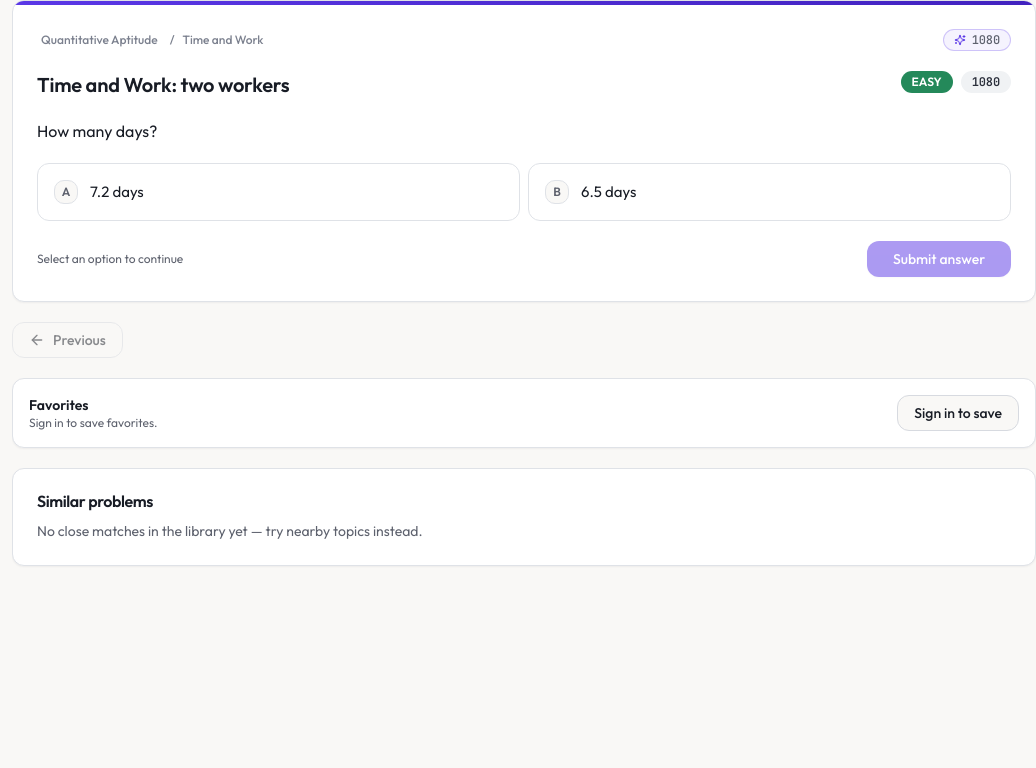
Test: PracticeView › reveals an incorrect result with the correct answer highlighted
What coordinates should you click on to do the following:
click the text "6.5 days"
I would click on:
 (609, 192)
Its box is [581,182,636,201].
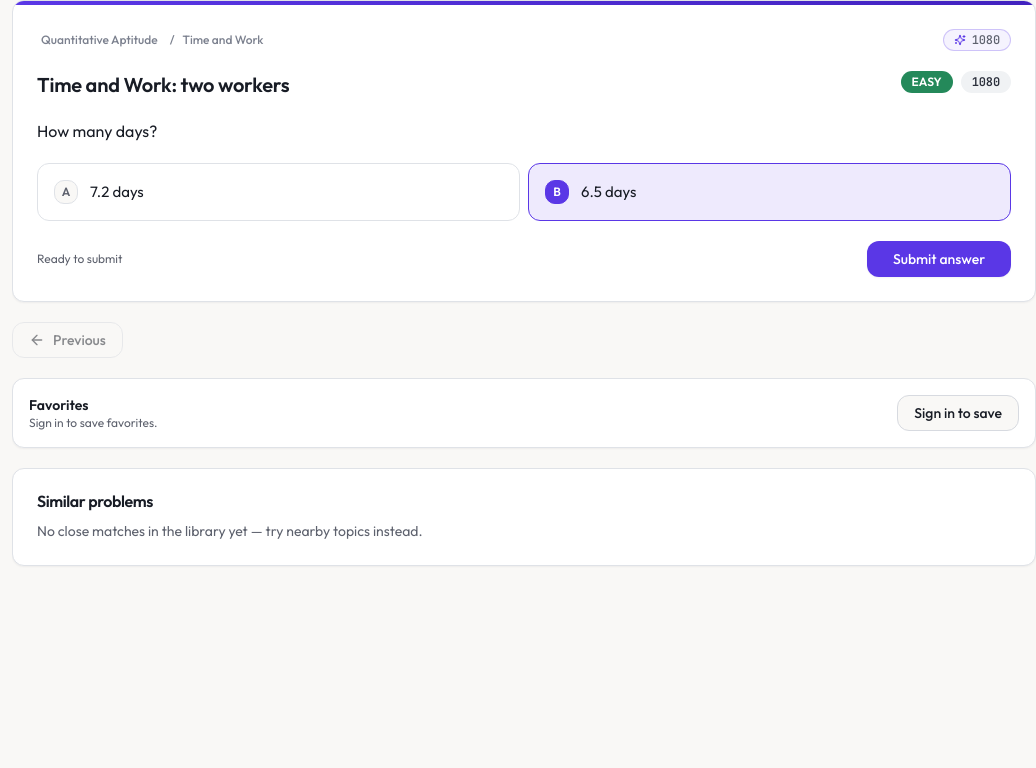
What coordinates should you click on to do the following:
click the button "Submit answer"
I would click on:
 (939, 259)
Its box is [867,241,1011,277].
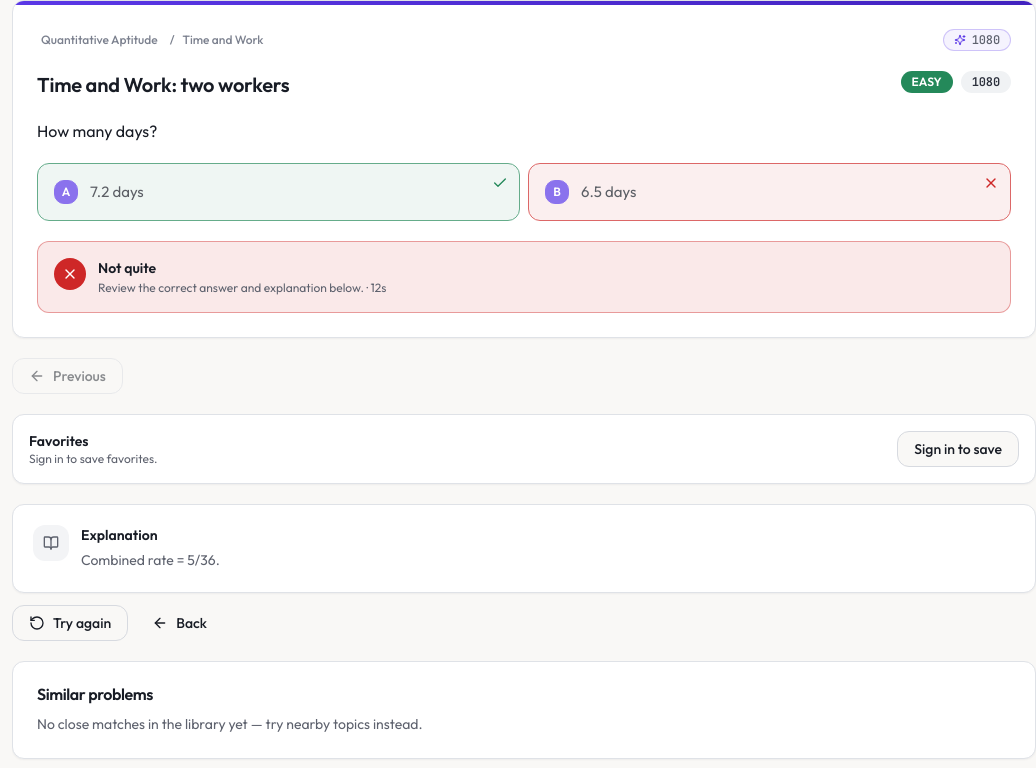
Now the text "Not quite" is shown, box [98,259,156,277]
Now the text "Explanation" is shown, box [81,526,158,544]
